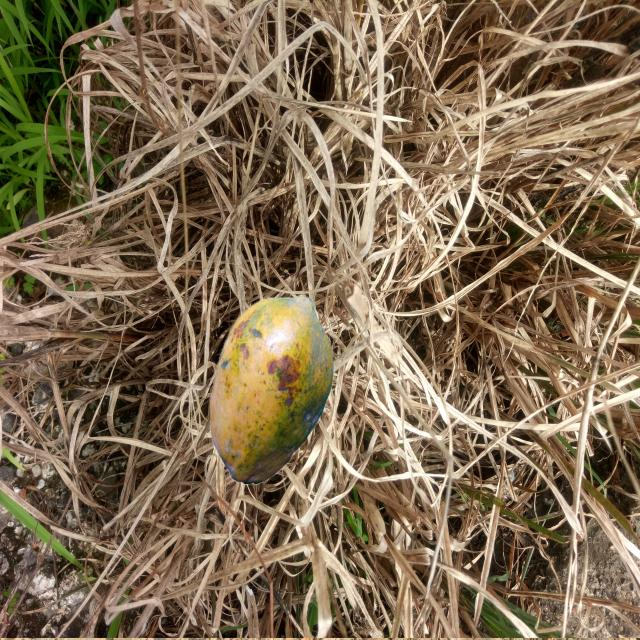Pepaya rippen: (203, 298, 345, 486)
